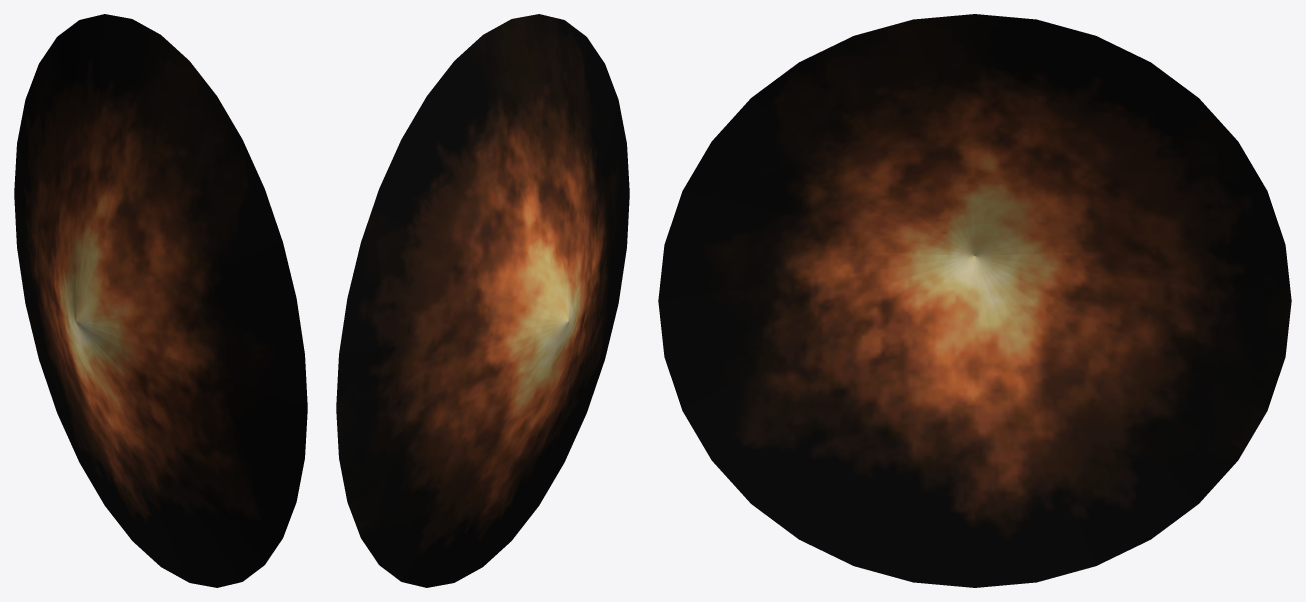
Rendered from muzzleFlashCono.fbx.
3 renders of one model, left to right at view 1: azimuth 30°, elevation 25°; view 2: azimuth 150°, elevation 25°; view 3: azimuth 270°, elevation 25°, orthographic. The views are drawn at different scales.
Visible parts, largest first — view 1: Cono; view 2: Cono; view 3: Cono.
Boxes of the visible parts, box(x1,y1,x2,y2) form: Cono: box(14, 14, 307, 587); Cono: box(336, 14, 629, 587); Cono: box(658, 14, 1291, 587).
Size of the model in its own units: 86.63 by 516 by 516.
Materials: 1 (1 with a texture image).
